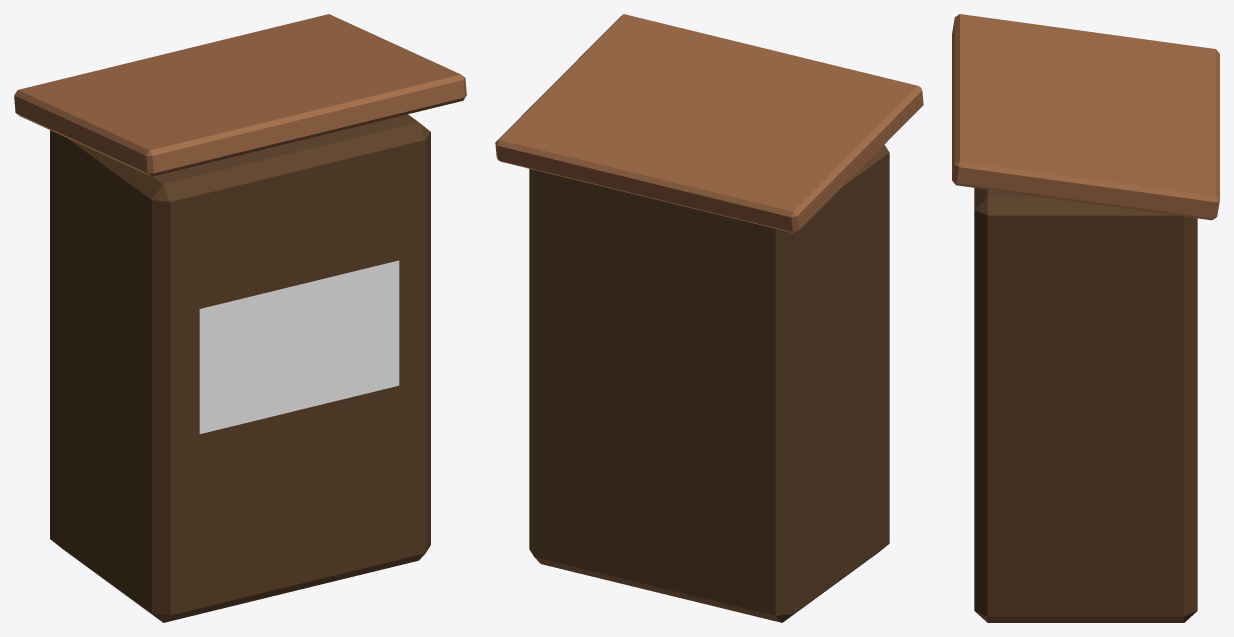
The model's file is podium.fbx.
3 renders of one model, left to right at view 1: azimuth 30°, elevation 25°; view 2: azimuth 150°, elevation 25°; view 3: azimuth 270°, elevation 25°, orthographic. The views are drawn at different scales.
Visible parts, largest first — view 1: podium; view 2: podium; view 3: podium.
Part boxes in pixels (x1,y1,x2,y2): podium: (14,14,466,622); podium: (495,14,923,622); podium: (952,14,1219,622).
Bounding box in the file's own units: 0.8 × 1.17 × 0.5992.
